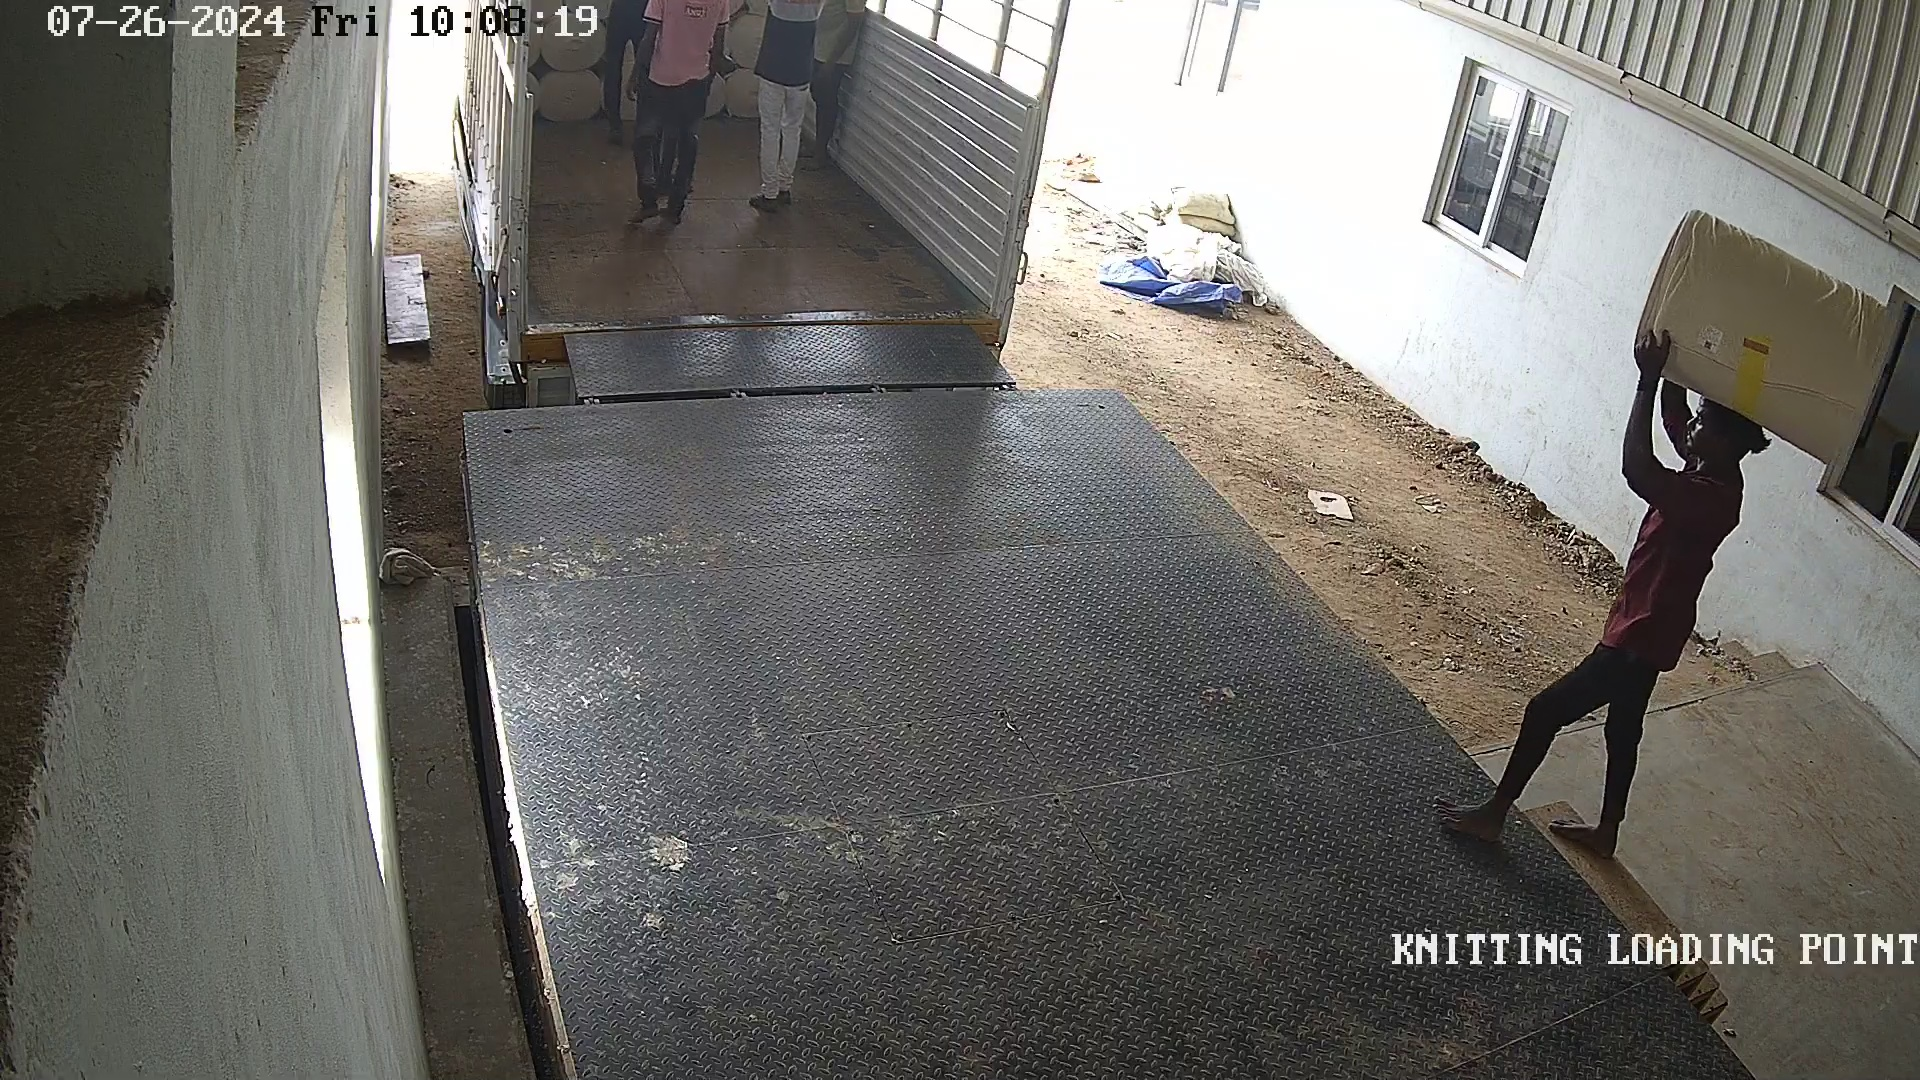bag: (1633, 200, 1903, 467)
